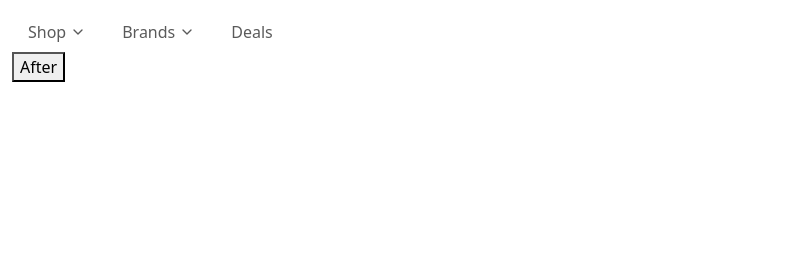
MegaMenu › AC-5: Escape closes the panel and focuses its button, also from inside the panel
Click the button "Shop": (57, 32) left=12, top=12, right=102, bottom=52
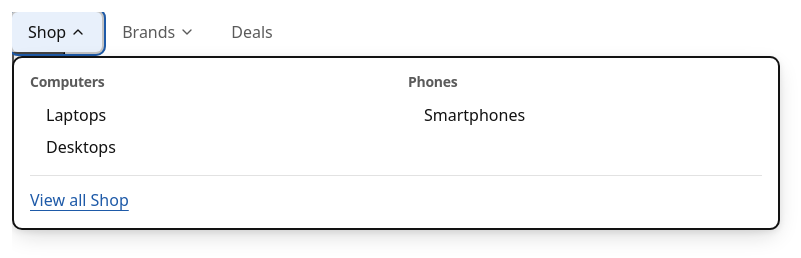
Press Escape
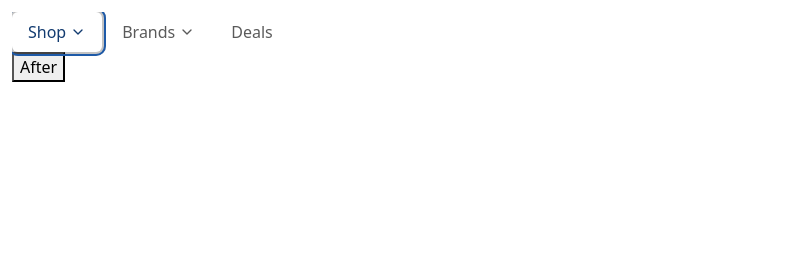
Check: the button "Shop" is collapsed, box left=12, top=12, right=102, bottom=52
Press Enter
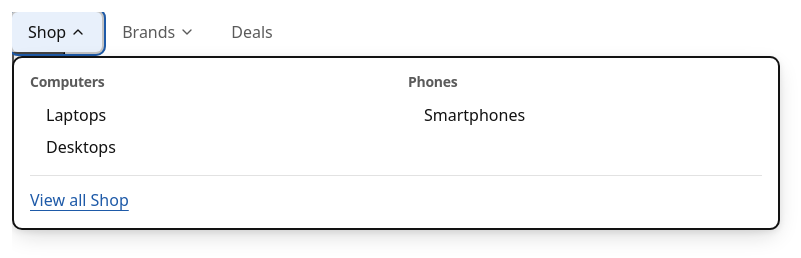
Press Tab
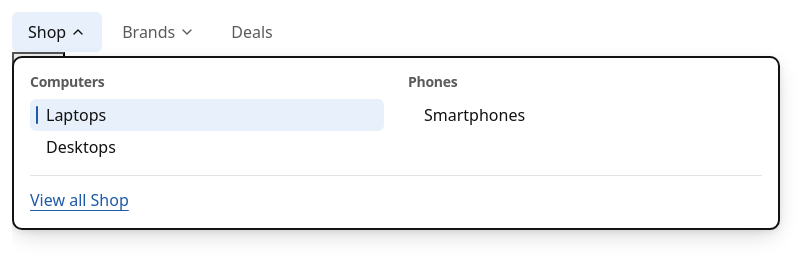
Press Escape
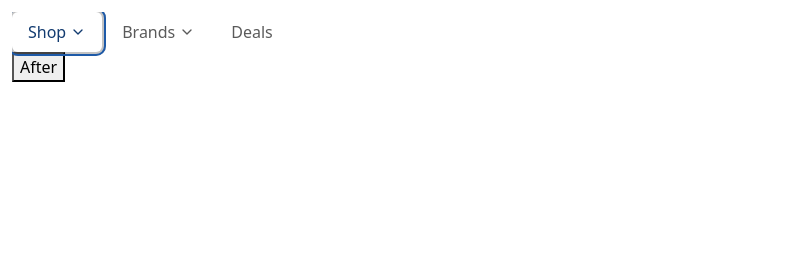
Check: the button "Shop" is collapsed, box left=12, top=12, right=102, bottom=52
